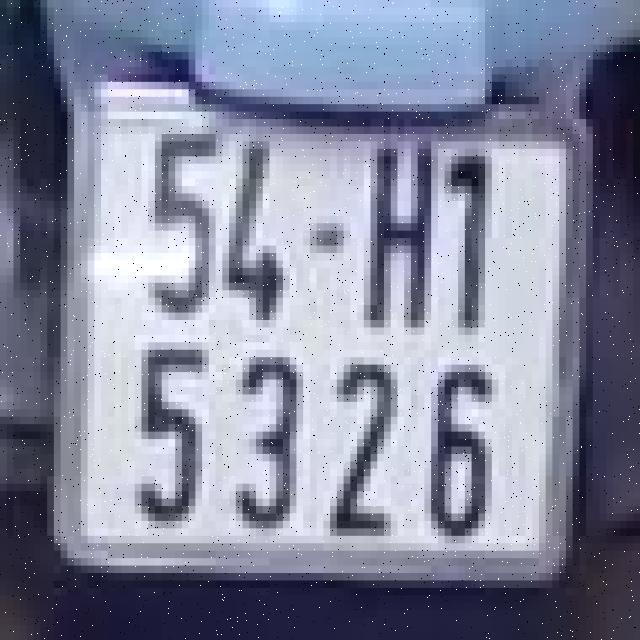1: (444, 145, 498, 346)
2: (327, 350, 401, 550)
3: (232, 342, 314, 544)
4: (222, 134, 296, 327)
5: (121, 342, 209, 536), (148, 127, 222, 320)
6: (421, 361, 502, 547)
H: (360, 141, 428, 335)
